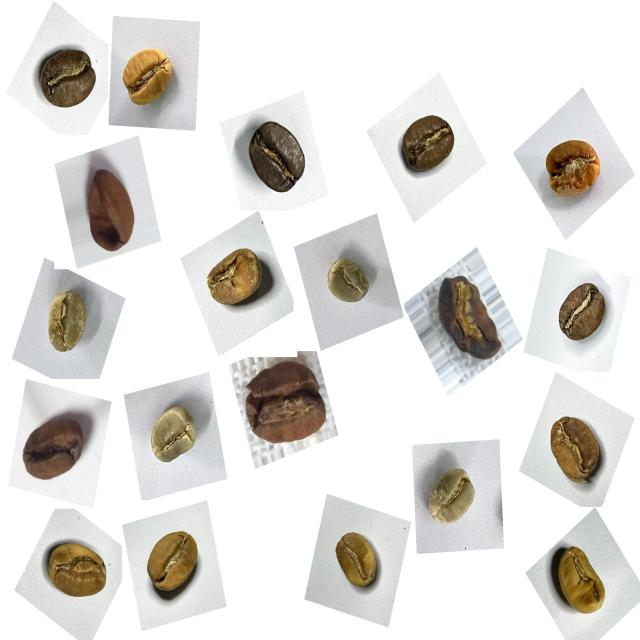bad: (239, 347, 332, 461), (16, 399, 100, 495), (435, 266, 510, 370), (80, 160, 146, 258)
dark: (240, 108, 317, 204)
green: (35, 528, 116, 614), (416, 455, 486, 542), (138, 393, 206, 477), (324, 519, 392, 601), (34, 282, 100, 366), (315, 245, 378, 318)
light: (532, 120, 614, 212), (134, 517, 212, 612), (543, 532, 619, 628), (202, 233, 276, 314), (114, 37, 185, 120)
medium: (537, 402, 614, 495), (31, 38, 106, 123), (391, 102, 466, 185), (549, 274, 617, 356)
